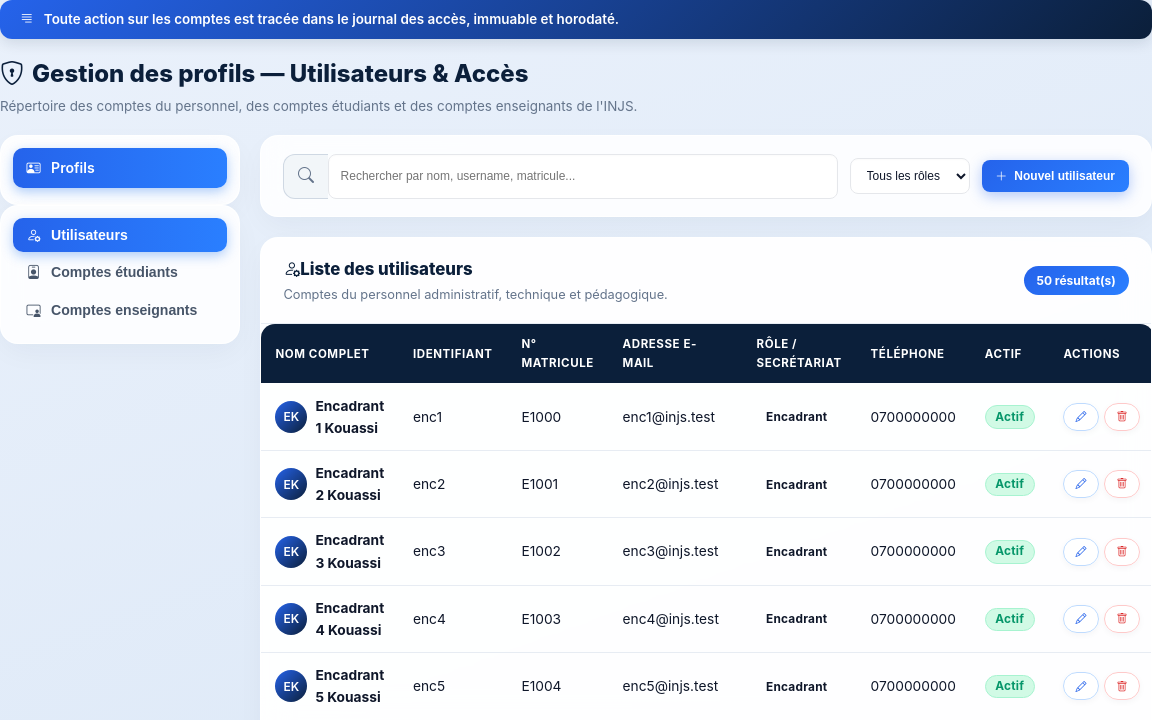
it: pages/Users.jsx — liste serveur (recherche, filtres, onglets, pagination) › supprime un utilisateur après confirmation, notifie et recharge la liste
Click the button titled "Supprimer" in the row of "Encadrant 1 Kouassi" at (1122, 417), box 1104,403 -> 1140,431
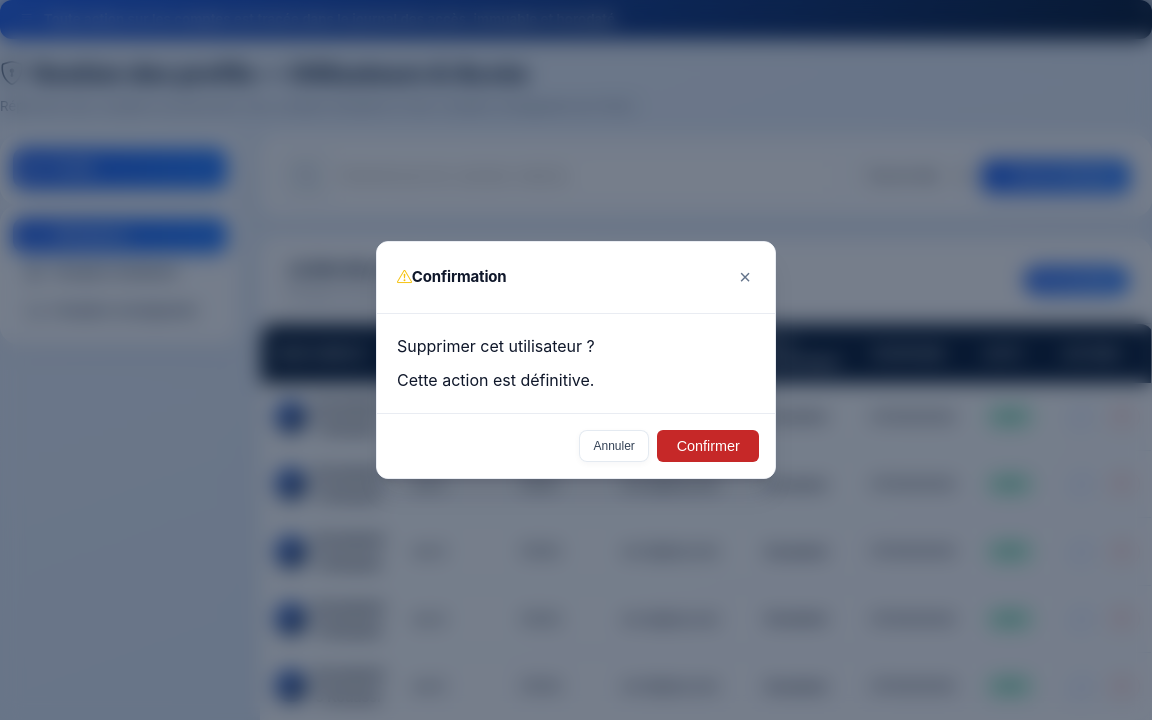
expect the text "Supprimer cet utilisateur ?" is shown: met, box 397,336 -> 595,356
Click the button "Confirmer" at (708, 446), box 658,430 -> 759,462
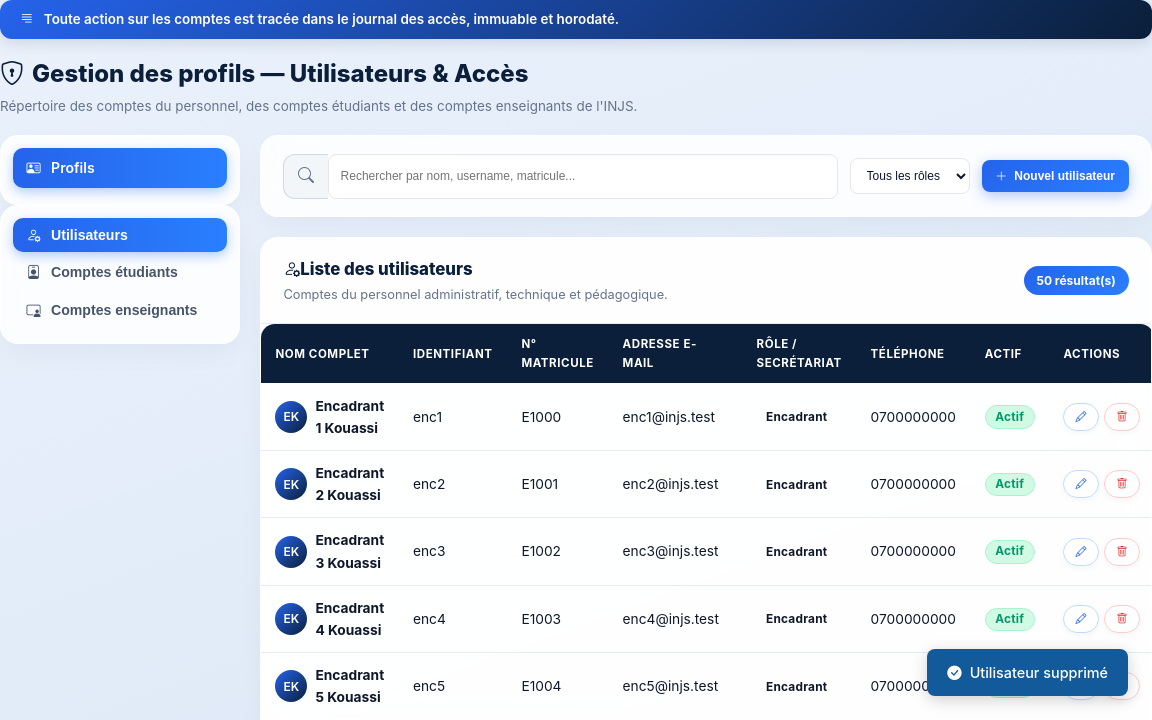
expect the text "Utilisateur supprimé" is shown: met, box 927,649 -> 1128,696
